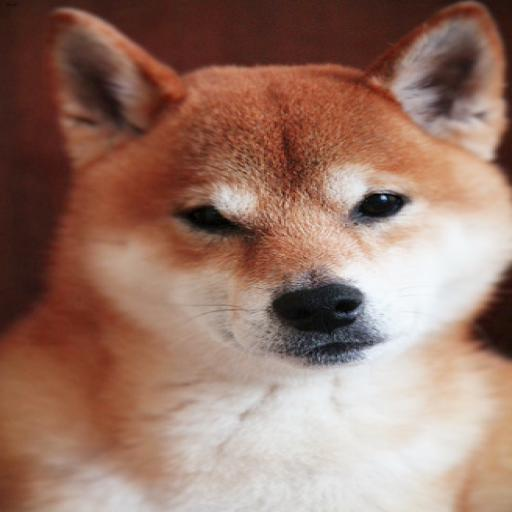dog_face: (46, 7, 496, 358)
